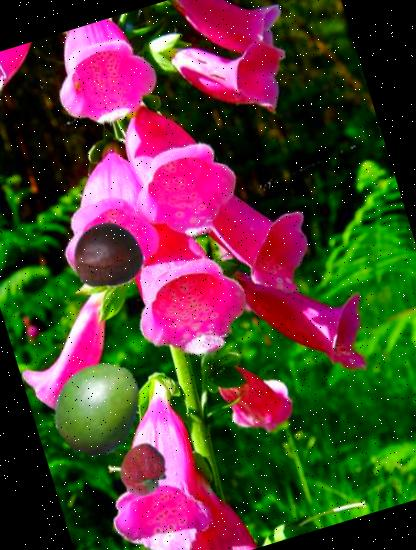Chestnut: (64, 209, 154, 298)
Mango: (39, 348, 159, 468)
Strawberry: (112, 436, 178, 504)
